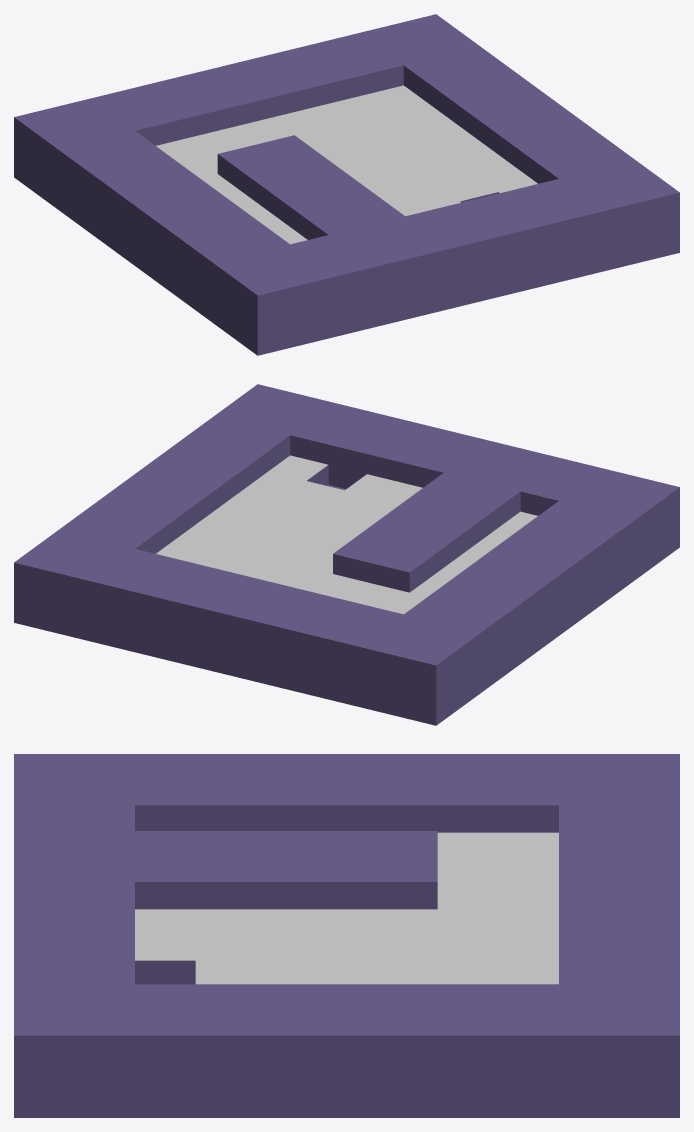
File: 003_platform.fbx
3 renders of one model, top to bottom at view 1: azimuth 30°, elevation 25°; view 2: azimuth 150°, elevation 25°; view 3: azimuth 270°, elevation 25°, orthographic. The views are drawn at different scales.
Visible parts, largest first — view 1: Plane; view 2: Plane; view 3: Plane.
Boxes of the visible parts, bbox=[...] form: Plane: bbox=[14, 14, 679, 355]; Plane: bbox=[14, 384, 679, 725]; Plane: bbox=[14, 754, 679, 1117].
Bounding box in the file's own units: 1100 × 150 × 1100.
